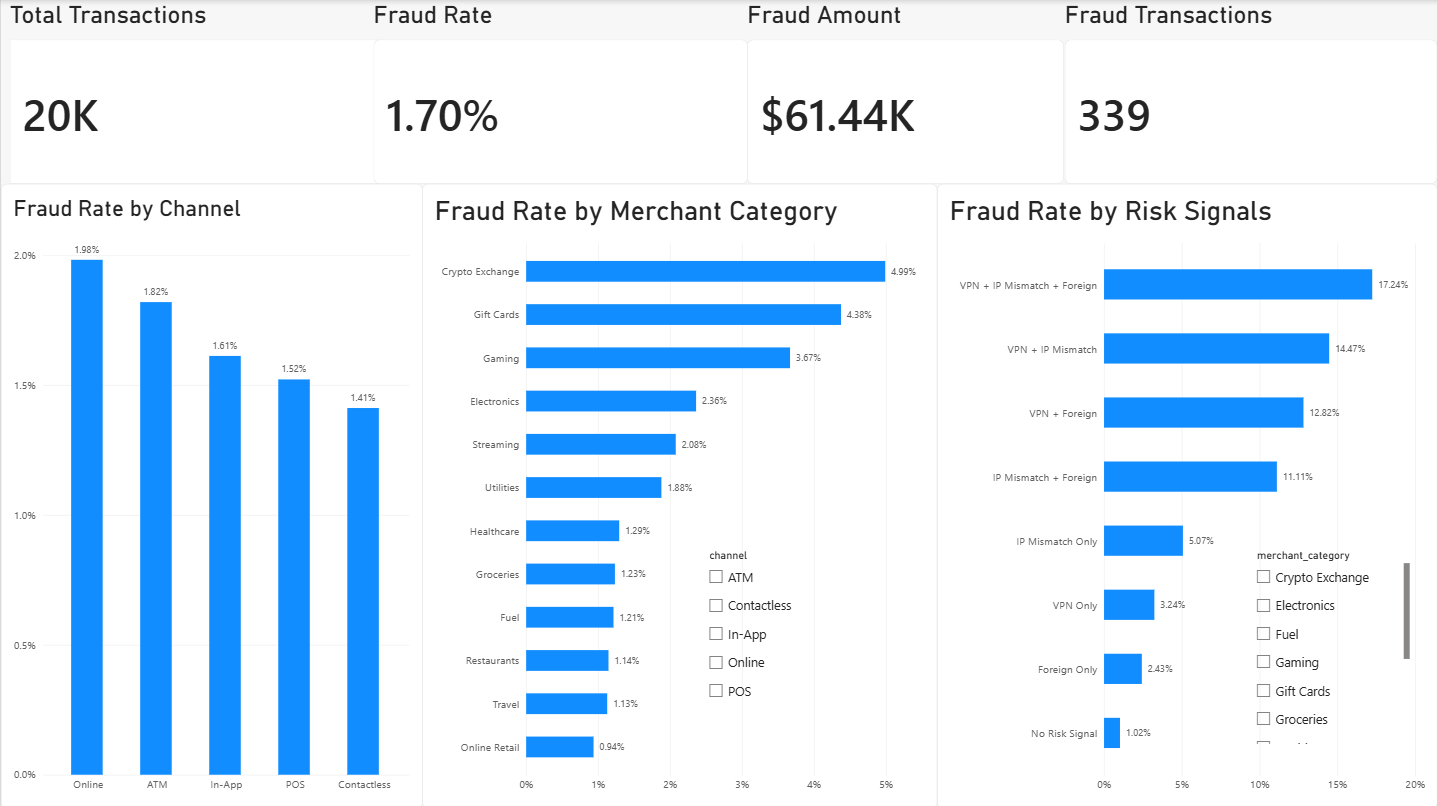

Layout of this report page (visuals, bound fields, positions):
{"tool":"powerbi","page":{"name":"Fraud Analysis Overview","canvas":[1920,1080],"ordinal":0},"visuals":[{"type":"cardVisual","title":"Total Transactions","fields":{"Data":["Count(credit_card_fraud_2026.transaction_id)"]},"box":[10.9,0,500,246.1],"z":0},{"type":"cardVisual","title":"Fraud Transactions","fields":{"Data":["credit_card_fraud_2026.Fraud Transactions"]},"box":[1420.6,0,499.5,246.1],"z":1000},{"type":"cardVisual","title":"Fraud Rate","fields":{"Data":["credit_card_fraud_2026.Fraud Rate"]},"box":[497.7,0,500,246.1],"z":2000},{"type":"cardVisual","title":"Fraud Amount","fields":{"Data":["credit_card_fraud_2026.Fraud Amount"]},"box":[997.1,0,423.5,246.1],"z":3000},{"type":"clusteredColumnChart","title":"Fraud Rate by Channel","fields":{"Category":["credit_card_fraud_2026.channel"],"Y":["credit_card_fraud_2026.Fraud Rate"]},"box":[0,246.1,562.8,834.3],"z":4000},{"type":"clusteredBarChart","title":"Fraud Rate by Merchant Category","fields":{"Category":["credit_card_fraud_2026.merchant_category"],"Y":["credit_card_fraud_2026.Fraud Rate"]},"box":[562.8,246.1,687.7,834.3],"z":5000},{"type":"clusteredBarChart","title":"Fraud Rate by Risk Signals","fields":{"Category":["credit_card_fraud_2026.Risk Signal Combination"],"Y":["credit_card_fraud_2026.Fraud Rate"]},"box":[1250.5,246.1,669.6,834.3],"z":6000},{"type":"slicer","fields":{"Values":["credit_card_fraud_2026.channel"]},"box":[938.4,733,206.3,280.5],"z":6001},{"type":"slicer","fields":{"Values":["credit_card_fraud_2026.merchant_category"]},"box":[1670.3,732.9,211.7,260.6],"z":6002}]}

Visuals, with their boxes in screenshot pixels (x1, y1, x2, y2), scaled from the page's 1920x1080 canvas onto the 1437x806 screenshot:
"Total Transactions" cardVisual: 8,0,382,184
"Fraud Transactions" cardVisual: 1063,0,1436,184
"Fraud Rate" cardVisual: 372,0,747,184
"Fraud Amount" cardVisual: 746,0,1063,184
"Fraud Rate by Channel" clusteredColumnChart: 0,184,421,805
"Fraud Rate by Merchant Category" clusteredBarChart: 421,184,936,805
"Fraud Rate by Risk Signals" clusteredBarChart: 936,184,1436,805
slicer - credit_card_fraud_2026.channel: 702,547,857,756
slicer - credit_card_fraud_2026.merchant_category: 1250,547,1409,741
